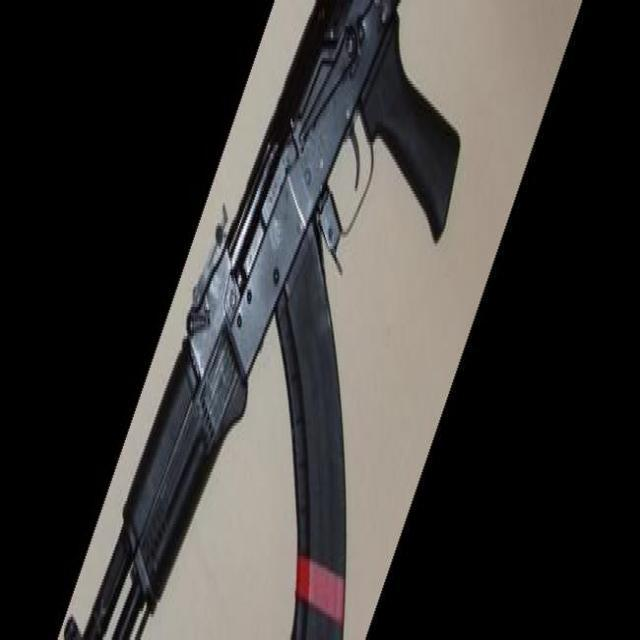weapon: (63, 0, 461, 640)
